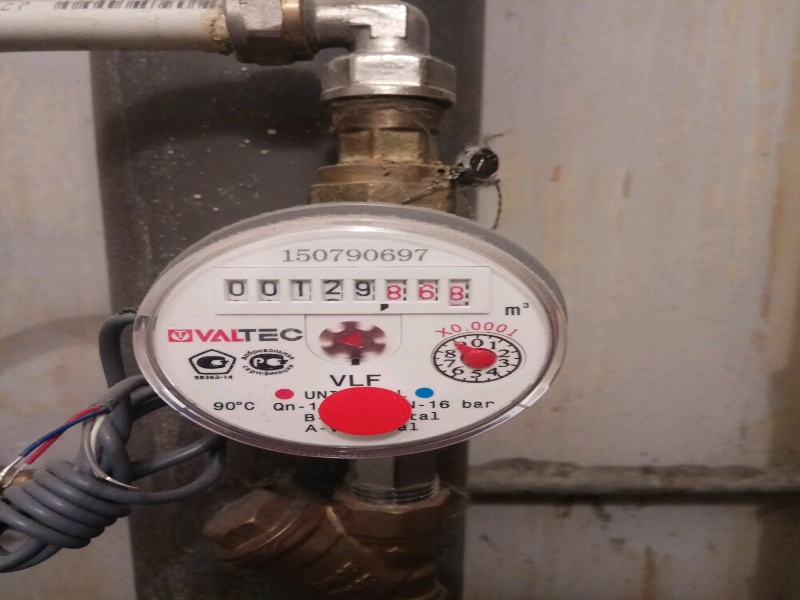meter: (209, 262, 491, 315)
